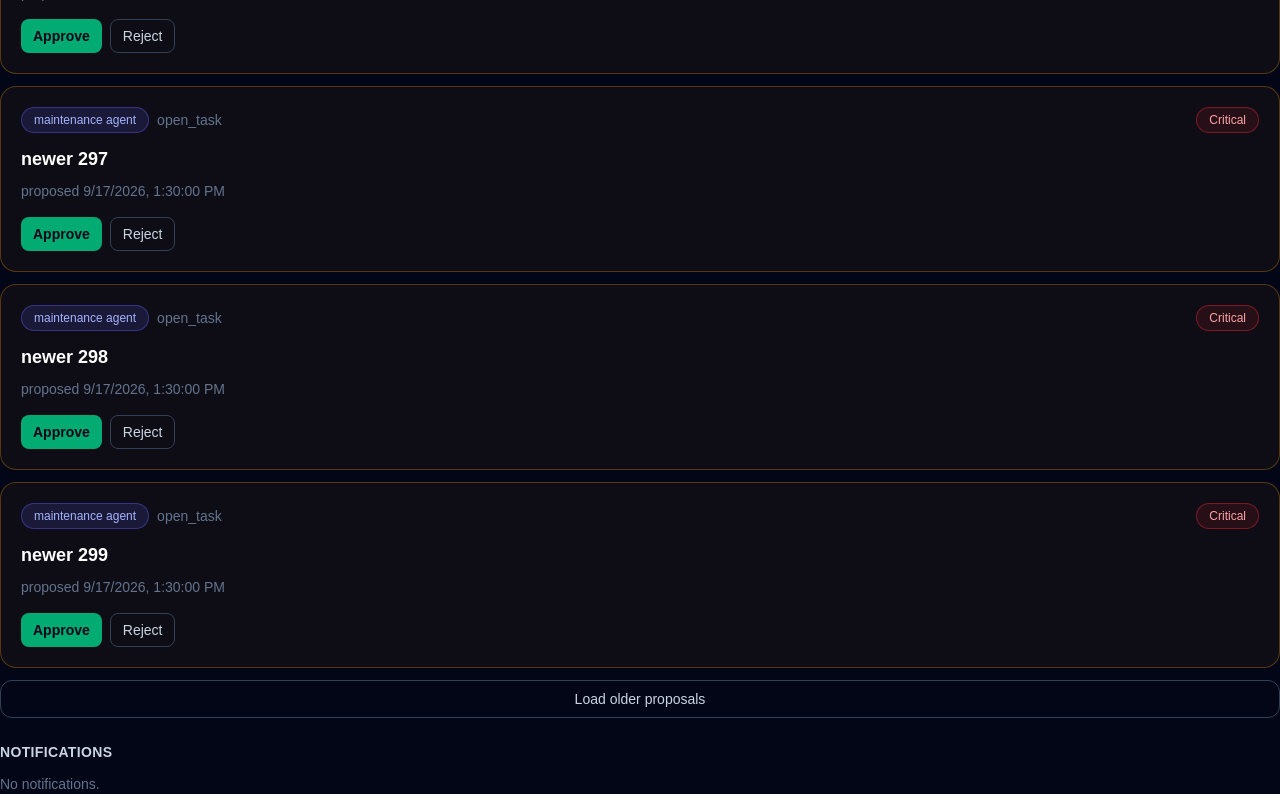
ApprovalsInbox reaches every proposal › offers older proposals past the first page, including the one holding an item
This screenshot has width=1280, height=794.
(page scrolled)
Click the button "Load older proposals": point(640, 699) [0,680,1279,718]
(page scrolled)
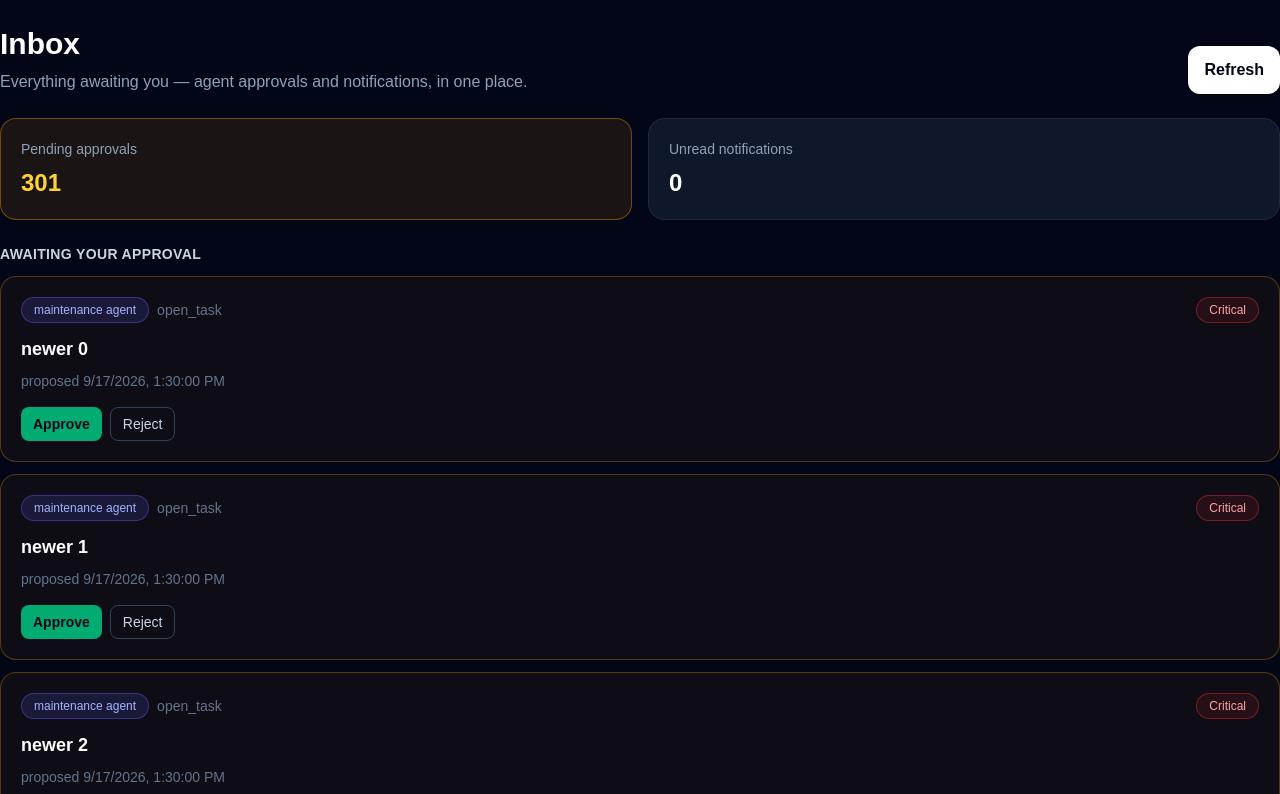
Result: the heading "301" is shown at [21,169,61,196]
Result: the button "Load older proposals" is gone
